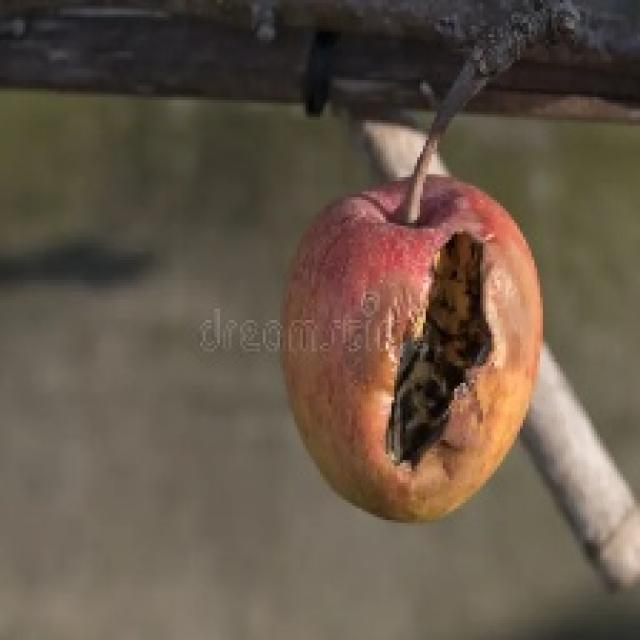rotten_apple: (293, 184, 539, 516)
